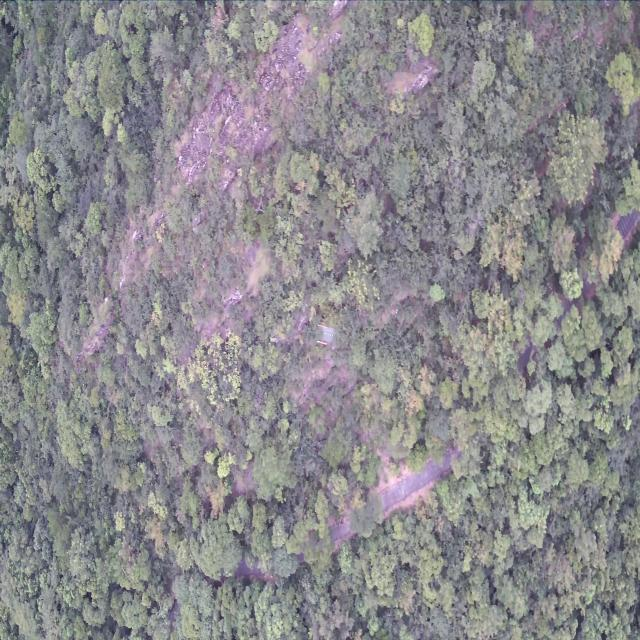UAV: (316, 323, 337, 351)
